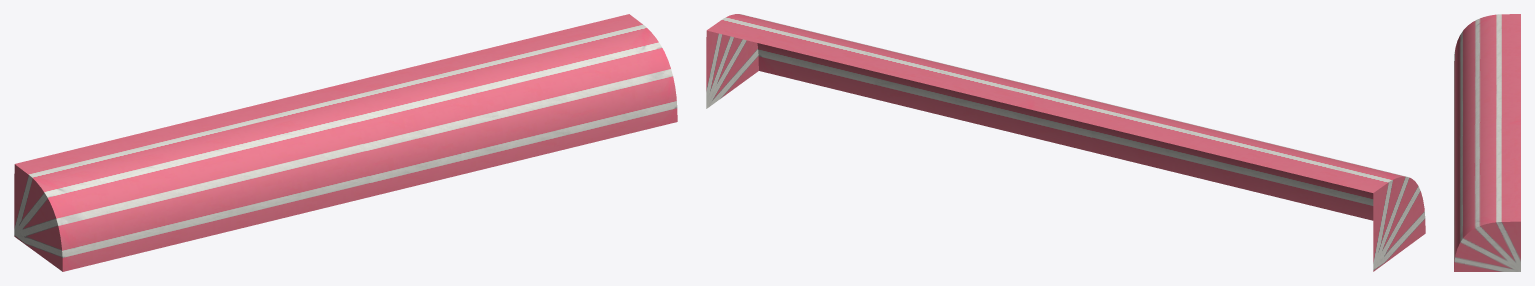
Rendered from umbrella_4.glb.
The picture shows the model from 3 angles, left to right: view 1: azimuth 30°, elevation 25°; view 2: azimuth 150°, elevation 25°; view 3: azimuth 270°, elevation 25°; orthographic projection. The views are drawn at different scales.
Parts seen in each view (by area): view 1: umbrella_4; view 2: umbrella_4; view 3: umbrella_4.
Part boxes in pixels (left/top/right/bottom): umbrella_4: left=14, top=14, right=677, bottom=271; umbrella_4: left=706, top=14, right=1425, bottom=271; umbrella_4: left=1454, top=14, right=1520, bottom=271.
Bounding box in the file's own units: 6.01 × 0.678 × 0.8178.
Materials: 1 (1 with a texture image).
